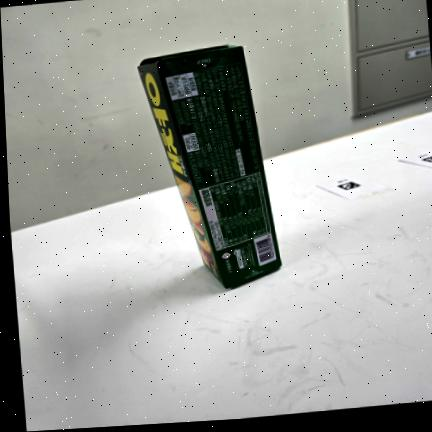cracker_vege: (138, 46, 281, 288)
